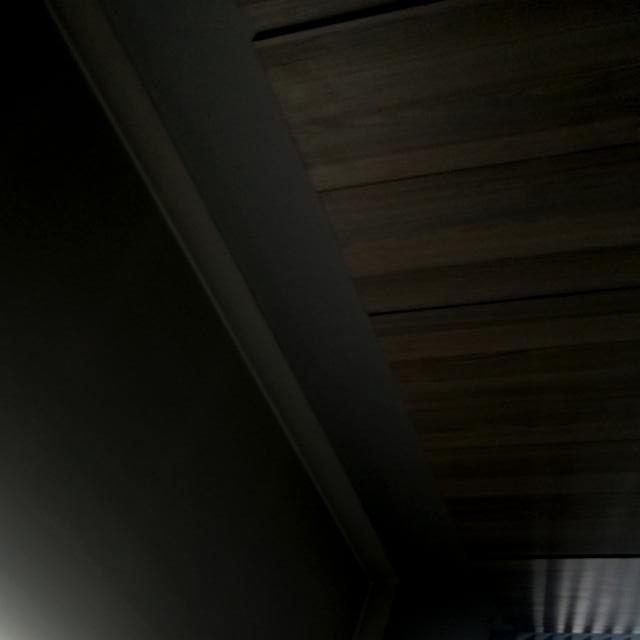fluorescent tube: (0, 269, 166, 640)
